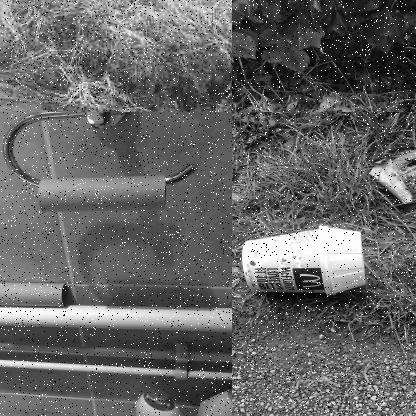cardboard: (34, 177, 166, 211), (0, 279, 81, 313)
plastic: (237, 224, 370, 297), (136, 382, 178, 415)
